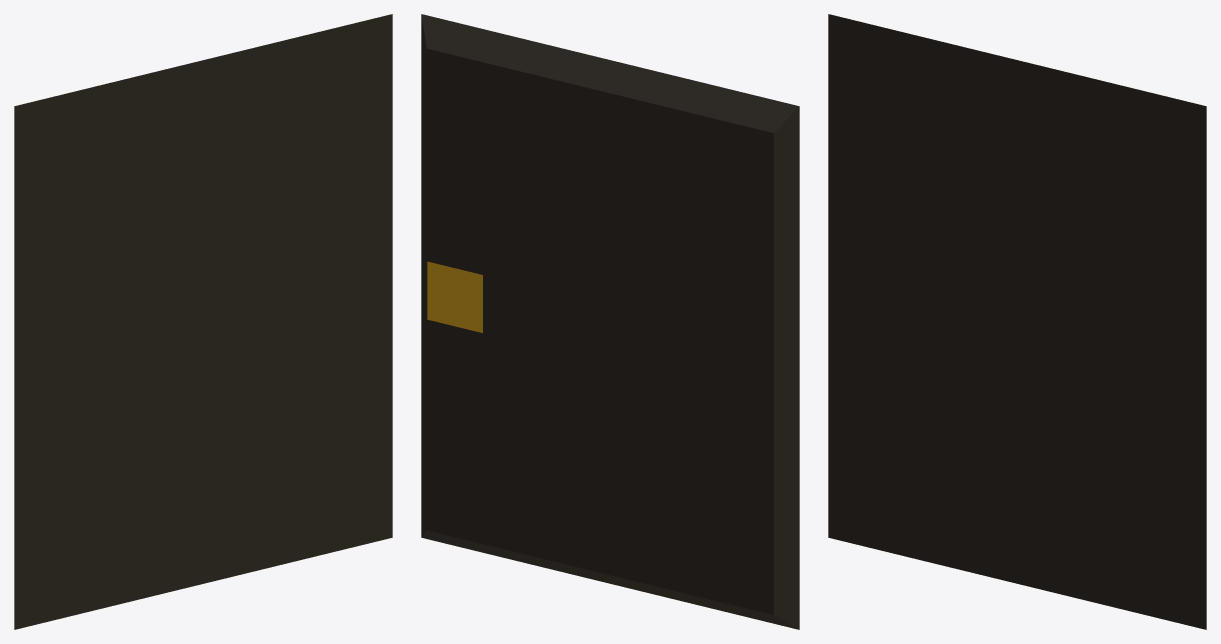
The model's file is liminal_locked_door.obj.
3 views of the same model, side by side, from view 1: azimuth 30°, elevation 25°; view 2: azimuth 150°, elevation 25°; view 3: azimuth 330°, elevation 25° (orthographic).
Visible parts, largest first — view 1: liminal_locked_door; view 2: liminal_locked_door; view 3: liminal_locked_door.
Part boxes in pixels (bbox=[...]): liminal_locked_door: bbox=[14, 14, 392, 629]; liminal_locked_door: bbox=[421, 14, 799, 629]; liminal_locked_door: bbox=[828, 14, 1206, 629].
Size of the model in its own units: 1.7 by 2.25 by 0.18.
